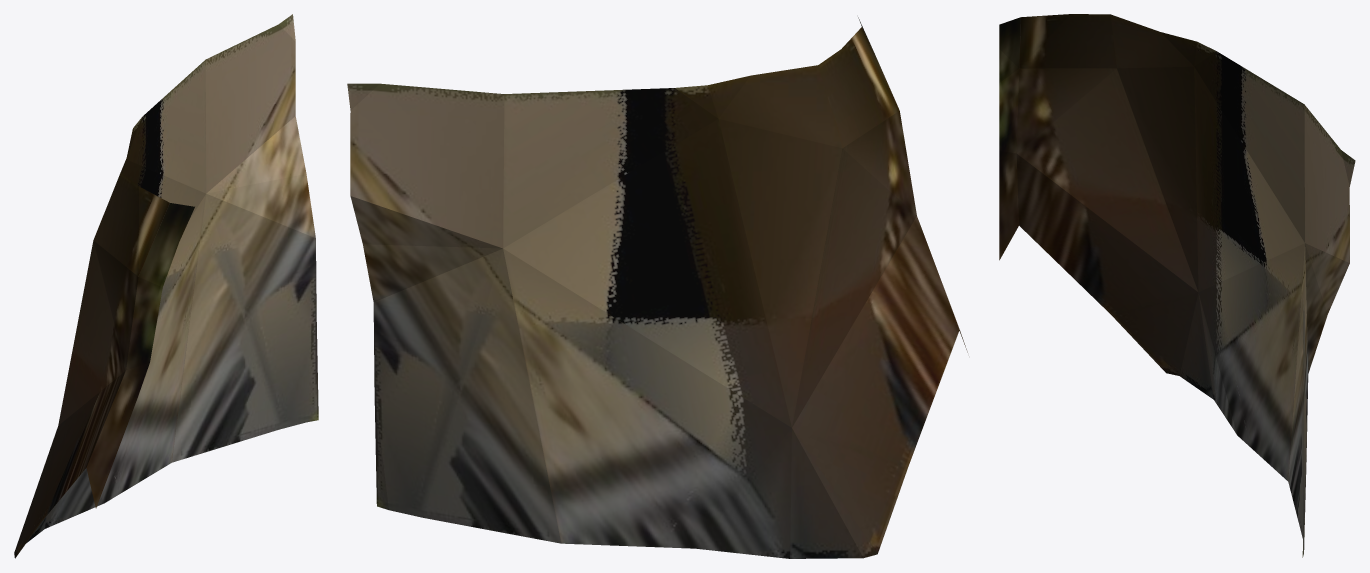
3 views of the same model, side by side, from view 1: azimuth 30°, elevation 25°; view 2: azimuth 150°, elevation 25°; view 3: azimuth 270°, elevation 25° (orthographic). The views are drawn at different scales.
Size of the model in its own units: 1.67 by 1.67 by 1.36.
Materials: 4 (4 with a texture image).
